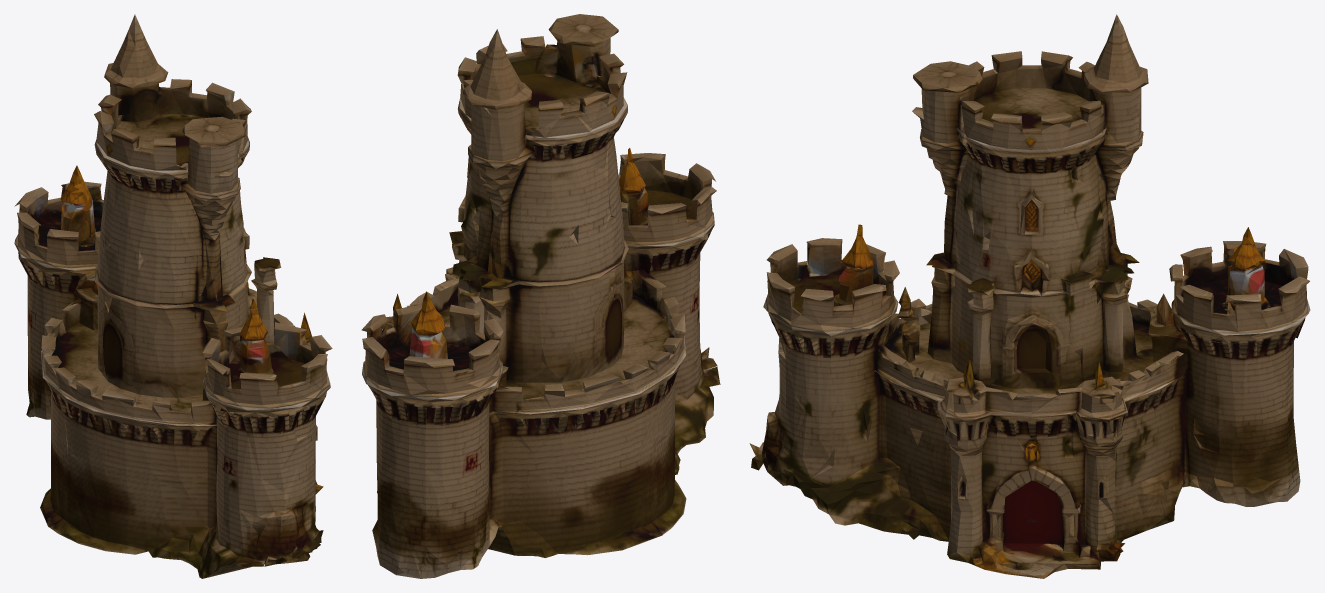
The model's file is tripo_convert_07c4b30e-d6cc-4f65-9ad2-a382384e1b0f.obj.
3 renders of one model, left to right at view 1: azimuth 30°, elevation 25°; view 2: azimuth 150°, elevation 25°; view 3: azimuth 270°, elevation 25°, orthographic. The views are drawn at different scales.
Parts seen in each view (by area): view 1: tripo_node_07c4b30e-d6cc-4f65-9ad2-a382384e1b0f; view 2: tripo_node_07c4b30e-d6cc-4f65-9ad2-a382384e1b0f; view 3: tripo_node_07c4b30e-d6cc-4f65-9ad2-a382384e1b0f.
Boxes of the visible parts, box(x1,y1,x2,y2) form: tripo_node_07c4b30e-d6cc-4f65-9ad2-a382384e1b0f: box(14, 14, 332, 578); tripo_node_07c4b30e-d6cc-4f65-9ad2-a382384e1b0f: box(361, 14, 720, 578); tripo_node_07c4b30e-d6cc-4f65-9ad2-a382384e1b0f: box(749, 14, 1310, 578).
Bounding box in the file's own units: 0.5503 × 0.9473 × 0.9747.
1 material, 1 textured.
